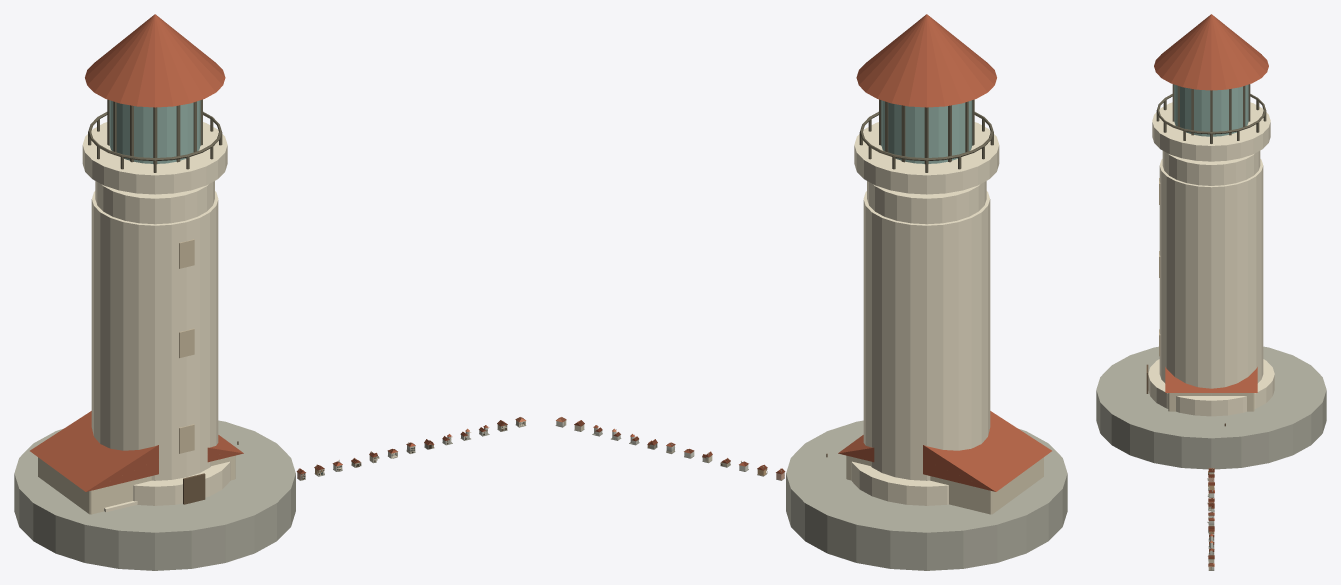
The model's file is environment.glb.
3 renders of one model, left to right at view 1: azimuth 30°, elevation 25°; view 2: azimuth 150°, elevation 25°; view 3: azimuth 270°, elevation 25°, orthographic. The views are drawn at different scales.
Visible parts, largest first — view 1: Tower section.001, Base plinth, Lantern roof, Warehouse roof, Tower section.003, Tower section.004, Tower section.002, Warehouse walls, Tower section, Balcony rail; view 2: Tower section.001, Base plinth, Lantern roof, Warehouse roof, Tower section.003, Tower section.004, Tower section.002, Tower section, Warehouse walls, Balcony rail; view 3: Tower section.001, Base plinth, Lantern roof, Tower section.003, Tower section.004, Tower section, Tower section.002, Warehouse roof, Warehouse walls, Balcony rail.
Boxes of the visible parts, x1,y1,x2,y2 form: Tower section.001: (91, 191, 218, 480); Base plinth: (14, 420, 295, 570); Lantern roof: (85, 14, 225, 107); Warehouse roof: (30, 411, 243, 491); Tower section.003: (82, 122, 227, 194); Tower section.004: (109, 100, 200, 163); Tower section.002: (95, 181, 214, 224); Warehouse walls: (38, 455, 235, 514); Tower section: (133, 461, 230, 505); Balcony rail: (88, 111, 221, 160); Tower section.001: (863, 191, 990, 480); Base plinth: (786, 420, 1067, 570); Lantern roof: (856, 14, 996, 107); Warehouse roof: (838, 411, 1051, 491); Tower section.003: (854, 122, 999, 194); Tower section.004: (881, 100, 972, 163); Tower section.002: (867, 181, 986, 224); Tower section: (851, 461, 948, 505); Warehouse walls: (846, 455, 1043, 514); Balcony rail: (860, 111, 993, 160); Tower section.001: (1159, 159, 1263, 388); Base plinth: (1096, 346, 1326, 469); Lantern roof: (1154, 14, 1268, 90); Tower section.003: (1152, 102, 1270, 161); Tower section.004: (1174, 84, 1248, 136); Tower section: (1148, 359, 1274, 416); Tower section.002: (1162, 151, 1260, 185); Warehouse roof: (1165, 367, 1257, 392); Warehouse walls: (1168, 393, 1254, 411); Balcony rail: (1156, 94, 1266, 134).
Size of the model in its own units: 80.62 by 79.25 by 40.
